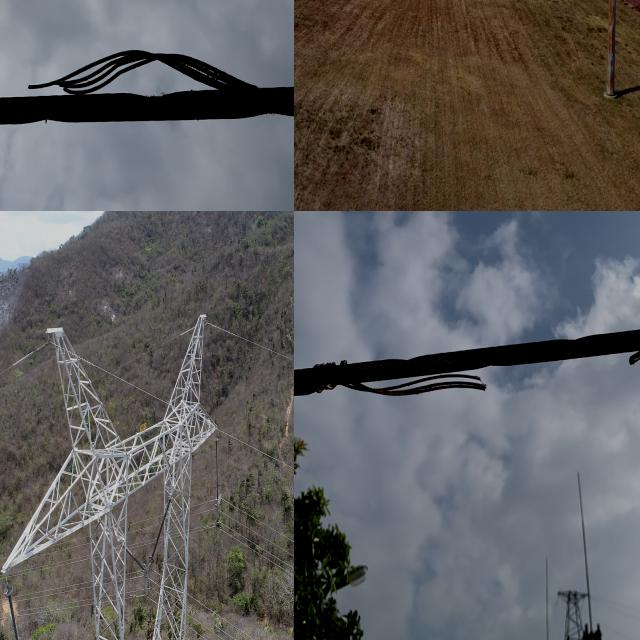杆塔: (4, 312, 221, 640)
正常绝缘子: (3, 576, 33, 640), (148, 494, 174, 564), (117, 537, 146, 574), (214, 437, 220, 500)
电缆破损: (15, 24, 294, 127), (294, 339, 509, 417)
